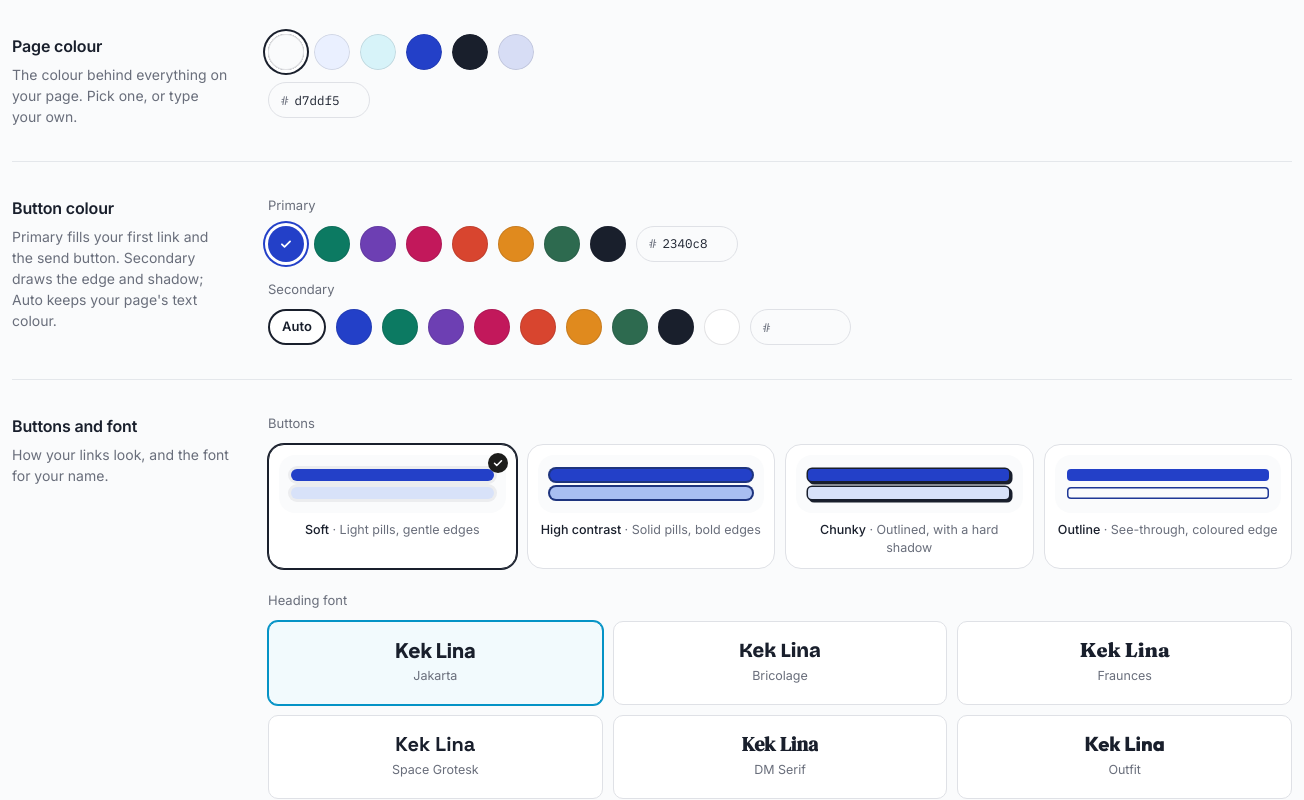
Test: AppearanceEditor › takes a custom colour typed as hex, and refuses one that is not
Replace the text in the field named "Accent colour as hex" with "banana": (694, 244) [662,234,724,253]
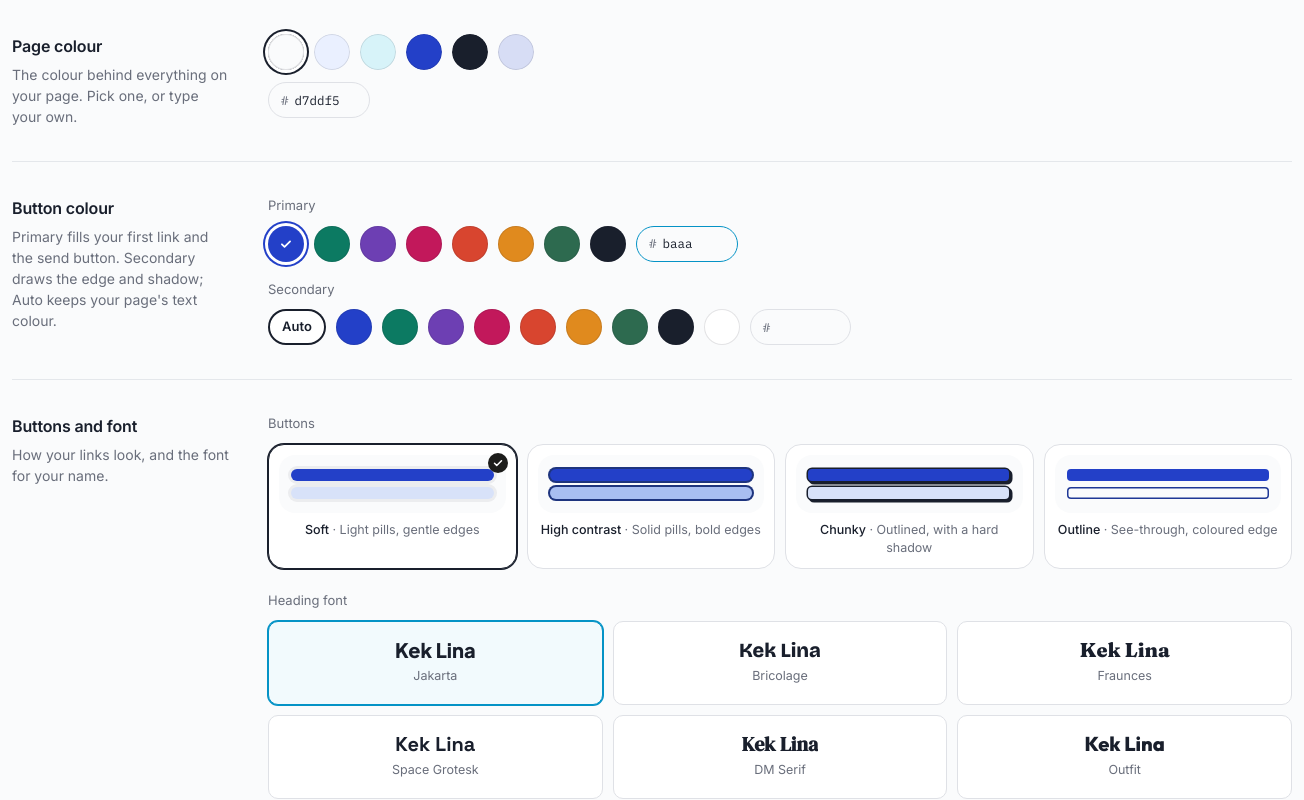
Now the field named "Accent colour as hex" holds "baaa"
Replace the text in the field named "Accent colour as hex" with "#123abc": (694, 244) [662,234,724,253]
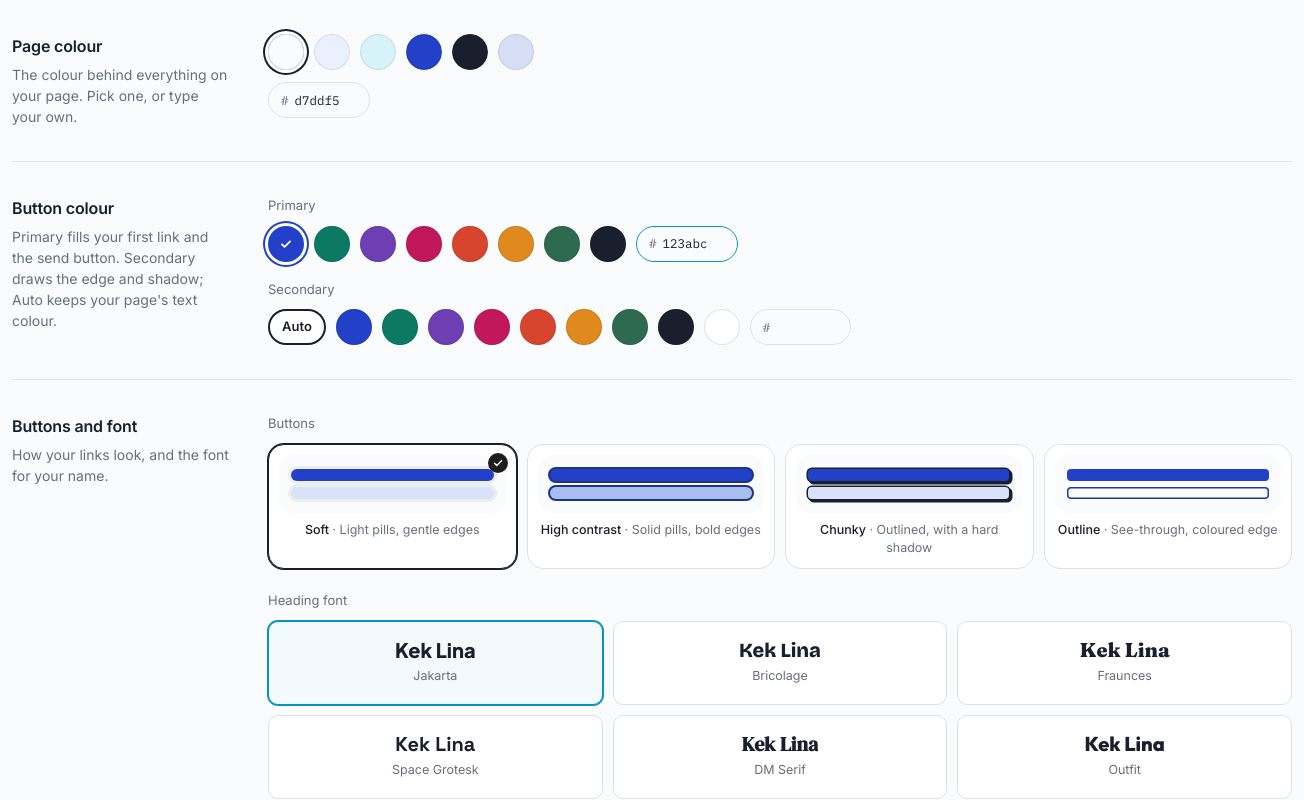
Now the field named "Accent colour as hex" holds "123abc", box [662,234,724,253]
